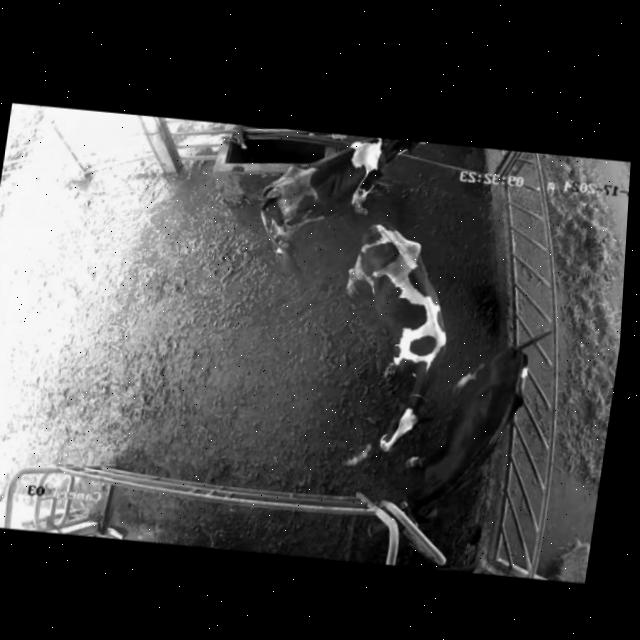stand: (311, 211, 469, 460), (361, 336, 532, 557), (253, 124, 427, 265)
